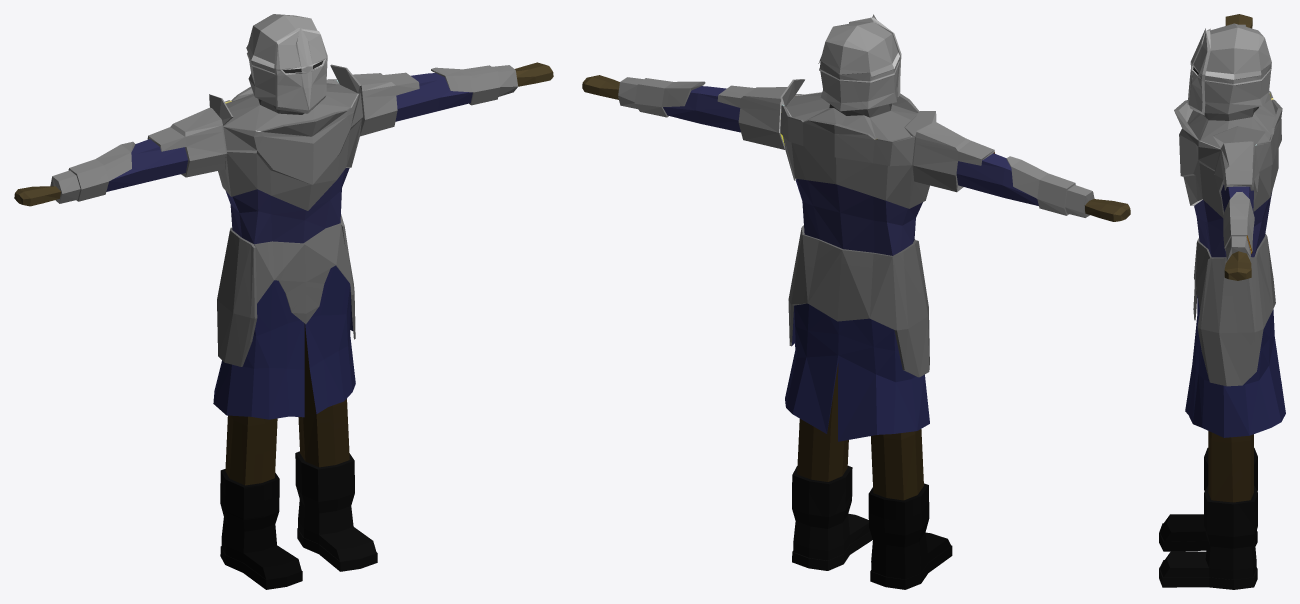
File: enemy_armored-aRjifO-n.glb
The picture shows the model from 3 angles, left to right: view 1: azimuth 30°, elevation 25°; view 2: azimuth 150°, elevation 25°; view 3: azimuth 270°, elevation 25°; orthographic projection. The views are drawn at different scales.
Visible parts, largest first — view 1: Knight; view 2: Knight; view 3: Knight.
Part boxes in pixels (box(x1,y1,x2,y2)): Knight: box(14, 14, 553, 589); Knight: box(582, 14, 1130, 589); Knight: box(1159, 14, 1285, 589).
Bounding box in the file's own units: 4.91 × 4.73 × 1.02.
1 material, 1 textured.
